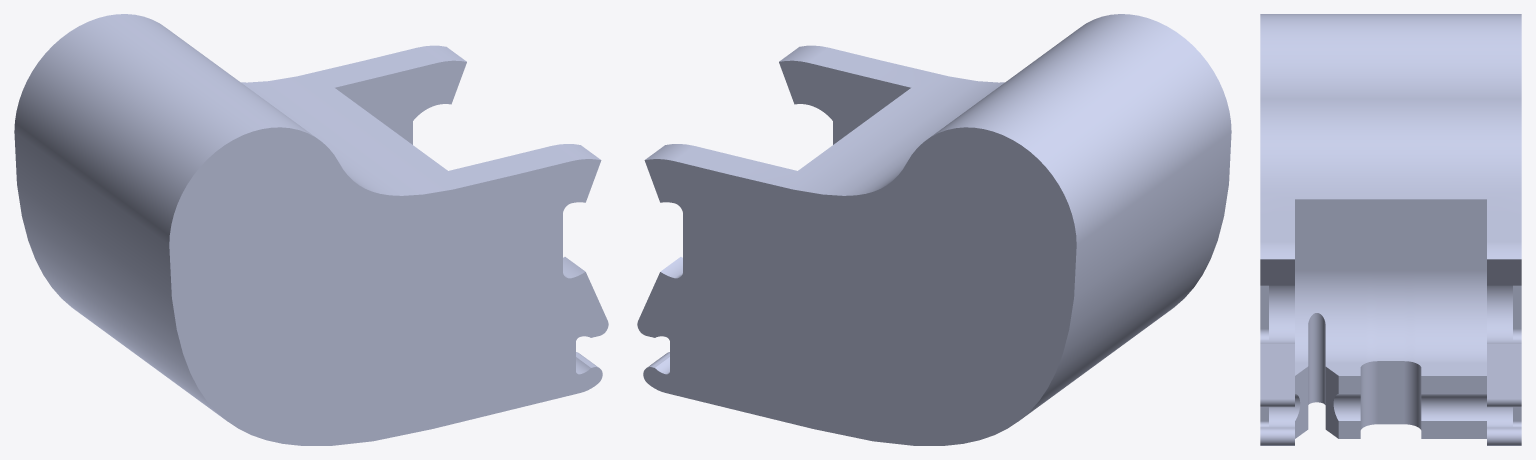
Rendered from FingertipPhalange.obj.
3 renders of one model, left to right at view 1: azimuth 30°, elevation 25°; view 2: azimuth 150°, elevation 25°; view 3: azimuth 270°, elevation 25°, orthographic. The views are drawn at different scales.
Visible parts, largest first — view 1: mesh69, mesh31, mesh30, mesh36, mesh43, mesh37, mesh40; view 2: mesh53, mesh31, mesh30, mesh36, mesh59, mesh40, mesh37; view 3: mesh36, mesh31, mesh18, mesh19, mesh6, mesh48, mesh16, mesh15, mesh54, mesh70, mesh46, mesh62 (+30 smaller).
Boxes of the visible parts, bbox=[...] form: mesh69: bbox=[169, 127, 608, 445]; mesh31: bbox=[14, 14, 315, 244]; mesh30: bbox=[14, 132, 224, 419]; mesh36: bbox=[241, 61, 517, 195]; mesh43: bbox=[335, 60, 466, 138]; mesh37: bbox=[363, 47, 436, 75]; mesh40: bbox=[498, 146, 571, 173]; mesh53: bbox=[637, 127, 1076, 445]; mesh31: bbox=[930, 14, 1231, 244]; mesh30: bbox=[1021, 132, 1231, 419]; mesh36: bbox=[728, 61, 1004, 195]; mesh59: bbox=[779, 60, 910, 138]; mesh40: bbox=[809, 47, 882, 75]; mesh37: bbox=[674, 146, 747, 173]; mesh36: bbox=[1260, 99, 1521, 219]; mesh31: bbox=[1260, 14, 1521, 98]; mesh18: bbox=[1295, 199, 1486, 270]; mesh19: bbox=[1416, 270, 1486, 362]; mesh6: bbox=[1295, 270, 1365, 362]; mesh48: bbox=[1421, 393, 1521, 428]; mesh16: bbox=[1378, 270, 1403, 360]; mesh15: bbox=[1378, 361, 1403, 424]; mesh54: bbox=[1487, 285, 1521, 343]; mesh70: bbox=[1260, 285, 1294, 343]; mesh46: bbox=[1487, 343, 1521, 382]; mesh62: bbox=[1260, 343, 1294, 382].
Size of the model in its own units: 0.0491 by 0.0365 by 0.03.
